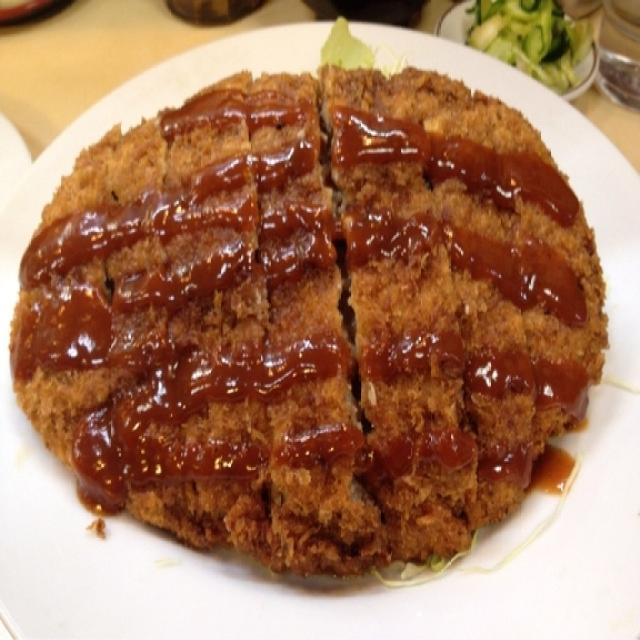炸货点心: (11, 37, 621, 599)
